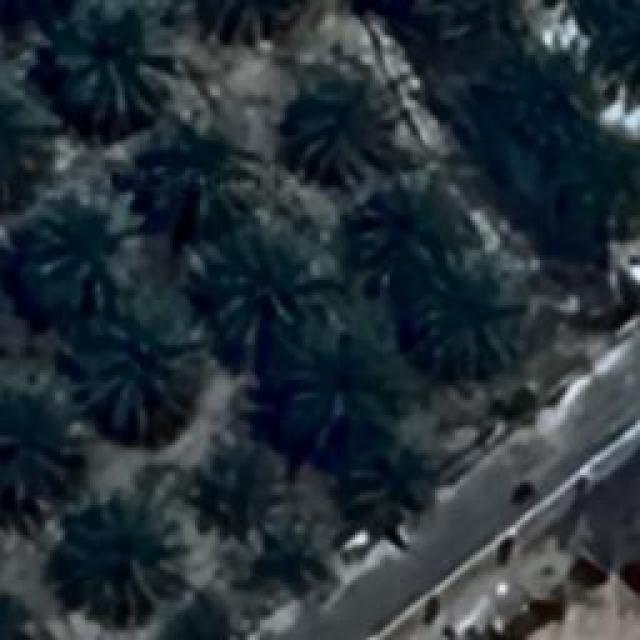PalmTree: (67, 40, 596, 565), (262, 306, 406, 449), (40, 5, 180, 120), (64, 315, 208, 415), (410, 268, 530, 372), (14, 218, 144, 312), (67, 510, 175, 618), (125, 138, 240, 226), (288, 77, 402, 165), (0, 390, 75, 520), (190, 238, 330, 298), (348, 444, 431, 523), (0, 104, 54, 214), (202, 438, 276, 518), (352, 191, 438, 259), (185, 0, 315, 44), (154, 601, 243, 640), (0, 591, 39, 640)
